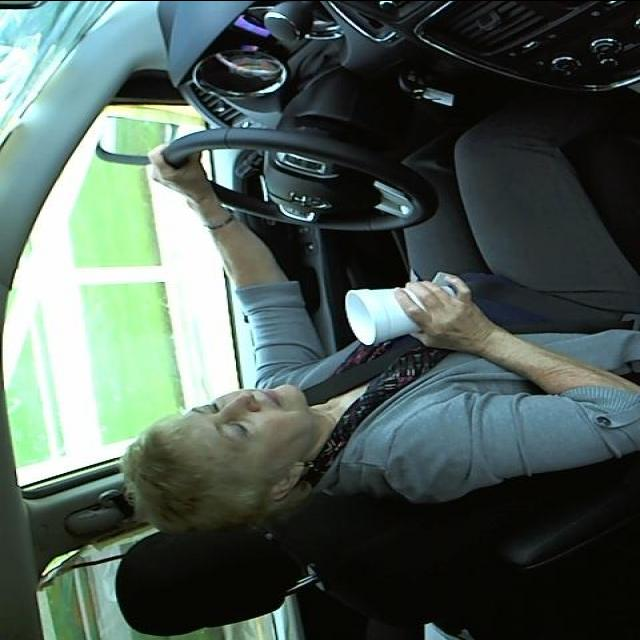drinking: (342, 279, 458, 347)
